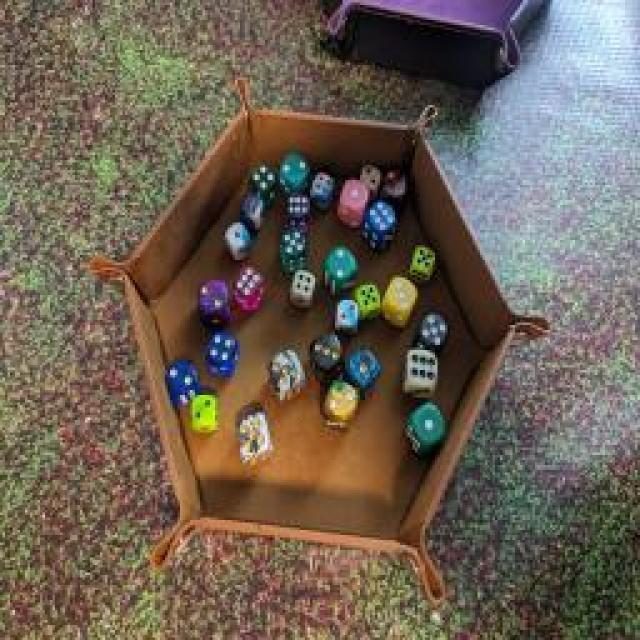dice_1: (400, 402, 448, 458), (342, 345, 382, 397), (334, 172, 368, 228), (224, 216, 251, 259)
dice_2: (318, 241, 360, 299), (322, 375, 356, 433), (162, 355, 200, 405), (192, 276, 230, 324), (276, 150, 309, 200), (188, 387, 222, 435), (378, 166, 412, 202), (334, 296, 364, 334), (356, 162, 379, 196)
dice_3: (380, 269, 420, 331), (306, 329, 349, 386)
dice_4: (285, 268, 320, 312), (204, 328, 238, 372), (249, 157, 279, 205), (310, 166, 340, 209)
dice_5: (232, 406, 278, 472), (264, 344, 304, 406), (414, 308, 448, 354), (353, 276, 385, 324), (279, 229, 309, 276), (406, 241, 436, 284)
dice_6: (361, 196, 399, 256), (400, 344, 440, 398), (230, 264, 265, 311), (235, 189, 270, 231), (284, 185, 314, 230)
